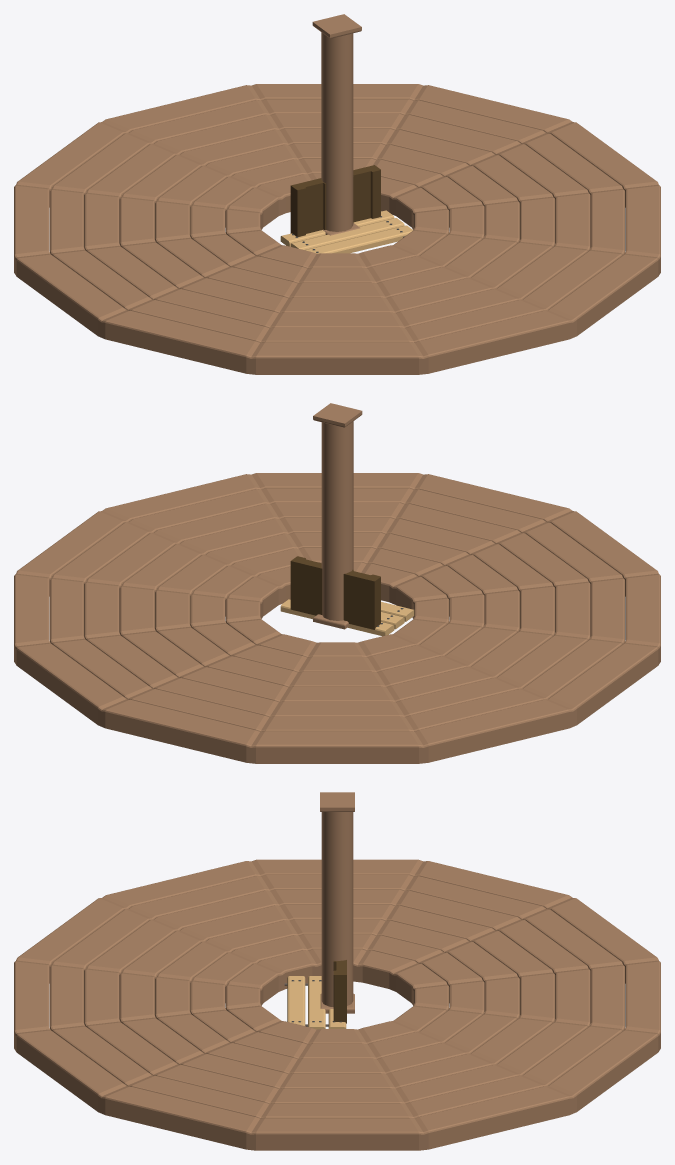
File: Alice.fbx
3 views of the same model, one above another, from view 1: azimuth 30°, elevation 25°; view 2: azimuth 150°, elevation 25°; view 3: azimuth 270°, elevation 25° (orthographic).
Visible parts, largest first — view 1: PlataformaCircular, Coluna, ParedeVolumosa, PonteDeCorda; view 2: PlataformaCircular, Coluna, ParedeVolumosa, PonteDeCorda; view 3: PlataformaCircular, Coluna, PonteDeCorda, ParedeVolumosa.
Boxes of the visible parts, x1,y1,x2,y2 form: PlataformaCircular: [14, 84, 660, 374]; Coluna: [312, 14, 361, 235]; ParedeVolumosa: [290, 165, 380, 236]; PonteDeCorda: [280, 210, 413, 253]; PlataformaCircular: [14, 473, 660, 763]; Coluna: [313, 403, 362, 629]; ParedeVolumosa: [290, 556, 380, 629]; PonteDeCorda: [280, 599, 414, 636]; PlataformaCircular: [14, 859, 660, 1150]; Coluna: [320, 792, 354, 1013]; PonteDeCorda: [284, 976, 346, 1029]; ParedeVolumosa: [333, 960, 346, 1023].
Bounding box in the file's own units: 641 × 234 × 641.
